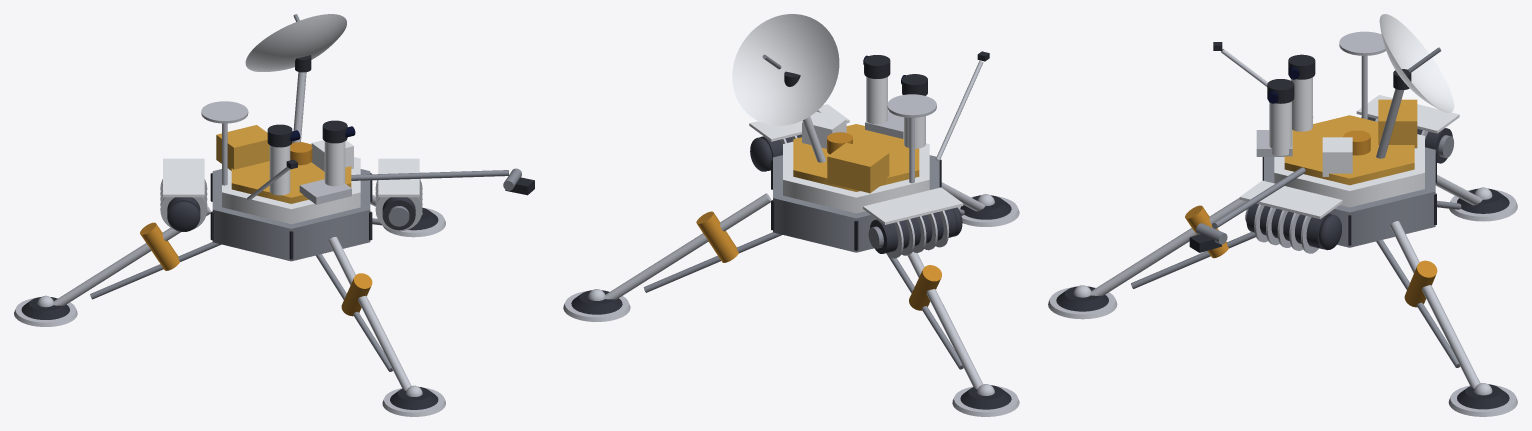
File: viking.glb
3 renders of one model, left to right at view 1: azimuth 30°, elevation 25°; view 2: azimuth 150°, elevation 25°; view 3: azimuth 270°, elevation 25°, orthographic. The views are drawn at different scales.
Parts seen in each view (by area): view 1: viking, rtg (×2), footpad (×3), dish; view 2: viking, dish, rtg (×2), footpad (×3); view 3: viking, rtg (×2), footpad (×3), dish.
Boxes of the visible parts, <box> form: viking: <box>53,14,534,390</box>; rtg (×2): <box>160,158,422,231</box>; footpad (×3): <box>14,207,445,416</box>; dish: <box>245,14,346,71</box>; viking: <box>605,51,989,389</box>; dish: <box>732,14,839,125</box>; rtg (×2): <box>749,104,963,258</box>; footpad (×3): <box>563,194,1019,416</box>; viking: <box>1091,31,1482,388</box>; rtg (×2): <box>1239,95,1459,253</box>; footpad (×3): <box>1048,187,1517,416</box>; dish: <box>1379,14,1454,112</box>.
Size of the model in its own units: 3.55 by 2.23 by 3.13.
